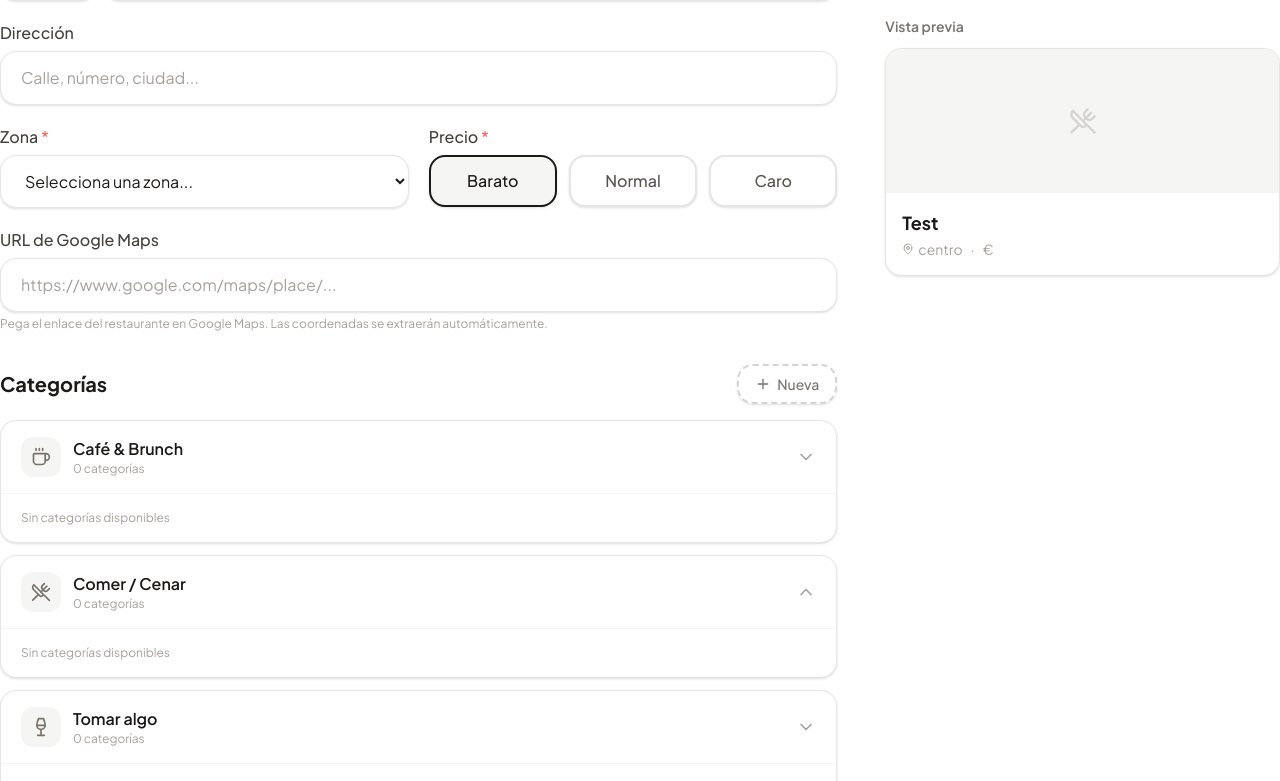
Test: RestaurantForm staff category creation › closes dialog on Cancel
The width and height of the screenshot is (1280, 781).
(page scrolled)
Click the button "Nueva". click: (787,384)
box: [737,364,837,404]
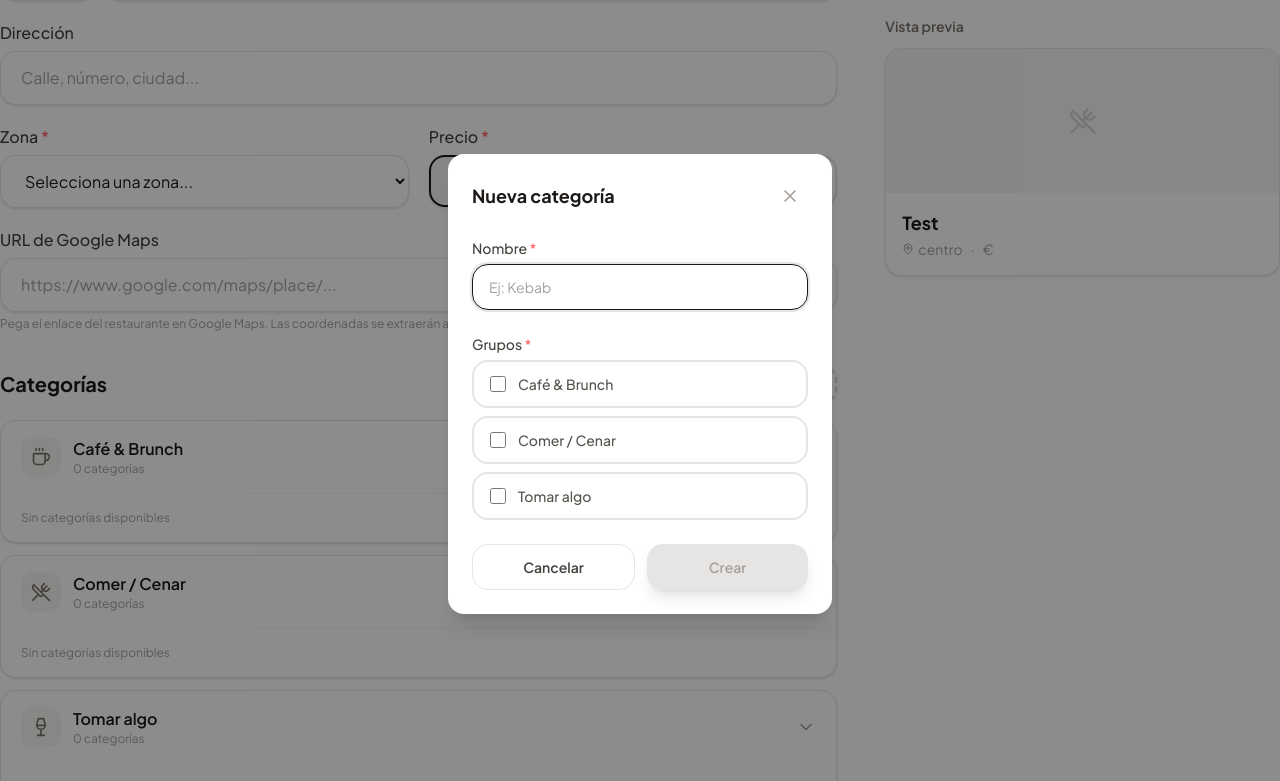
Now the heading "Nueva categoría" is shown, box [472,182,615,210]
Click the button "Cancelar". click: (554,567)
box: [472,544,635,590]
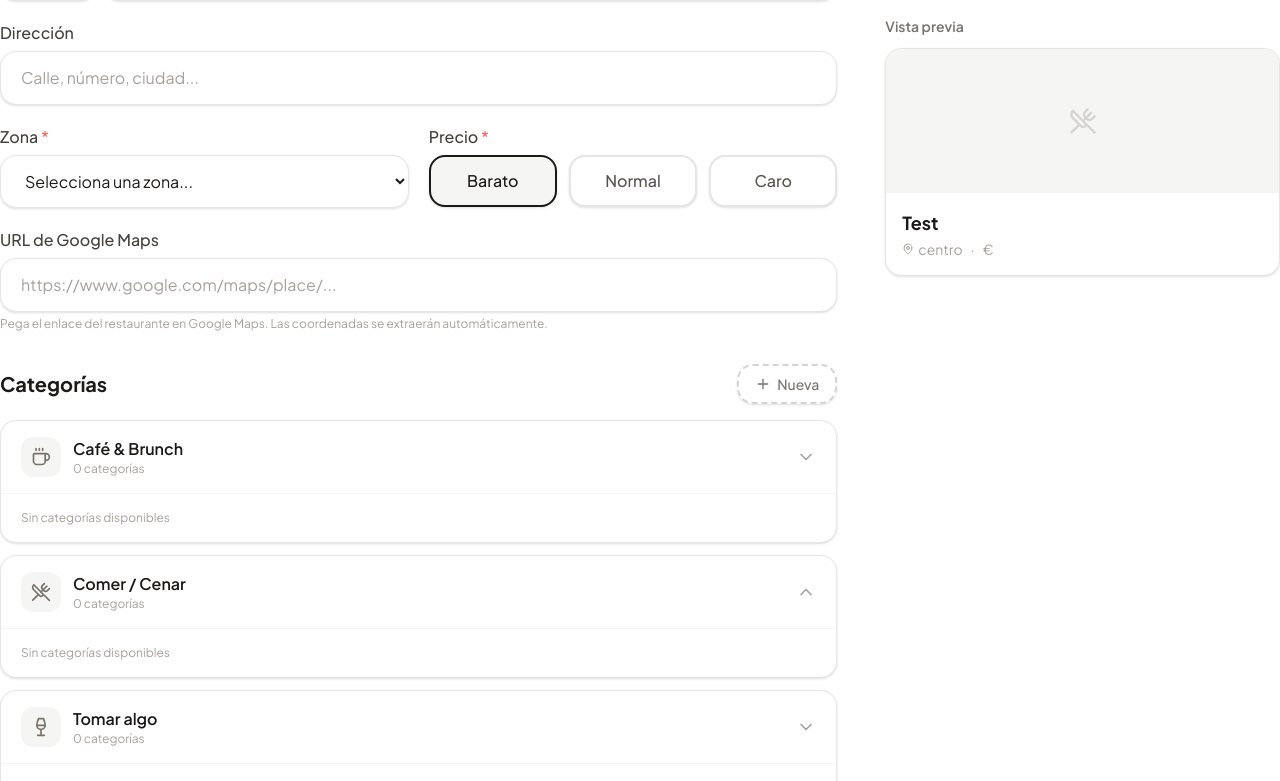
Now the heading "Nueva categoría" is gone
